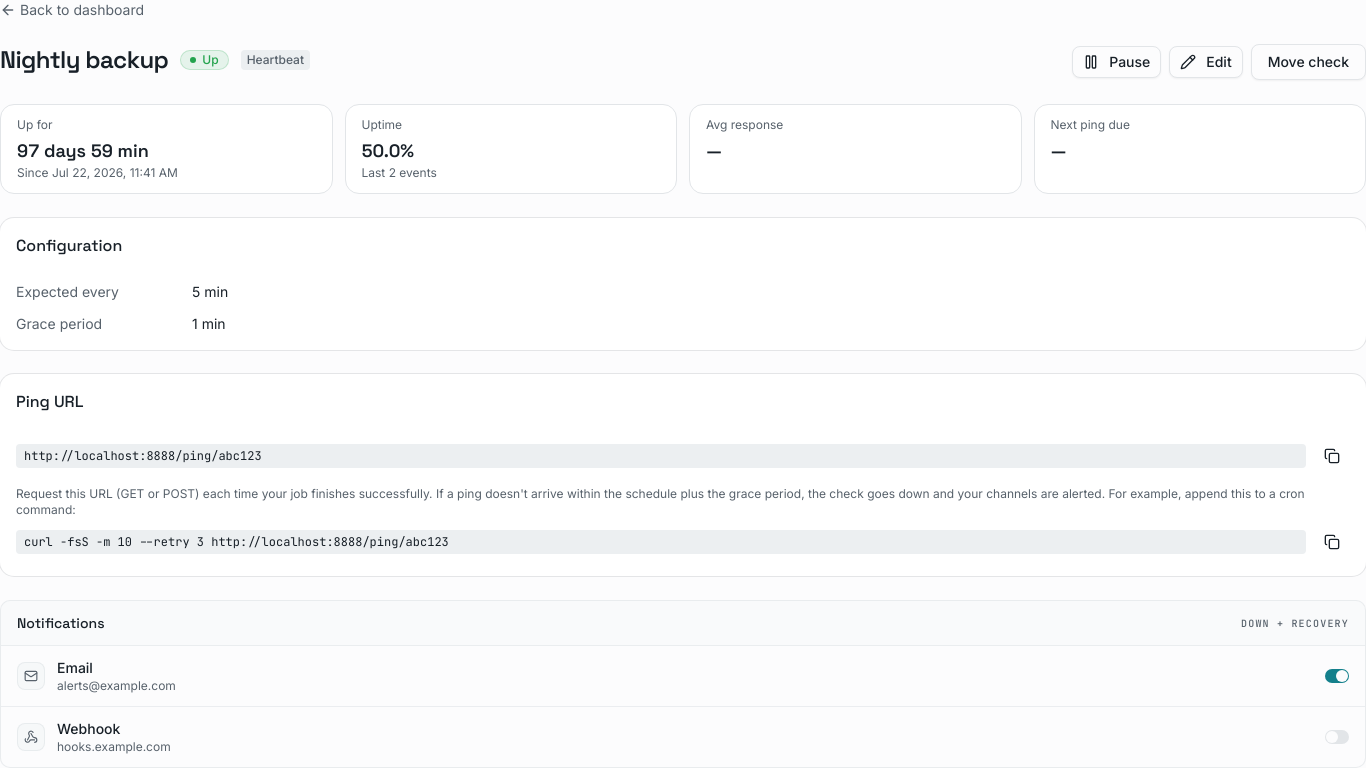
CheckDetail › keeps cached controls and shows only the save error when its recovery refetch fails
The image size is (1366, 768).
Step 1. Click the switch named "Nightly backup — Email notifications" → click(1337, 676), box [1325,669,1349,683]
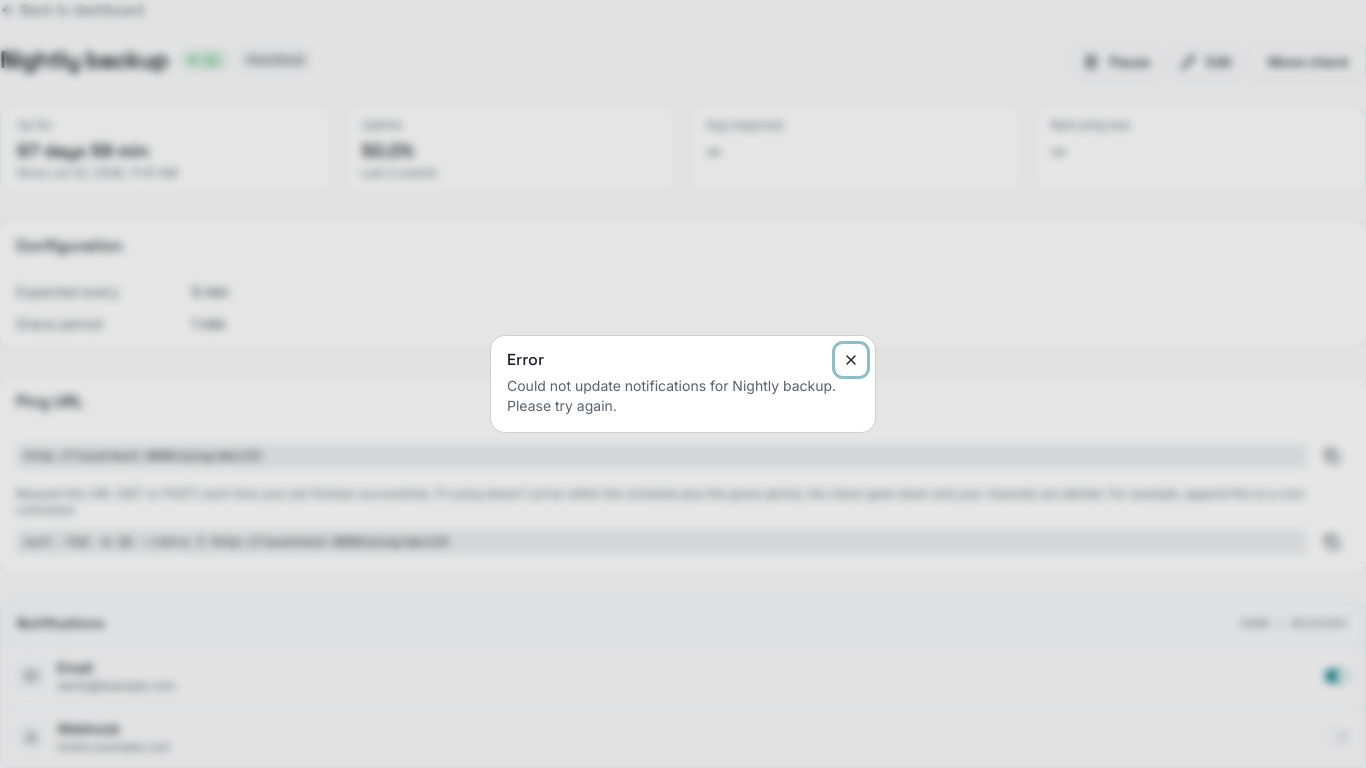
expect the dialog "Error" shows "Could not update notifications for Nightly backup. Please try again.": met, box [507,377,836,414]
expect the number of dialogs is 1: met, box [491,336,875,432]
